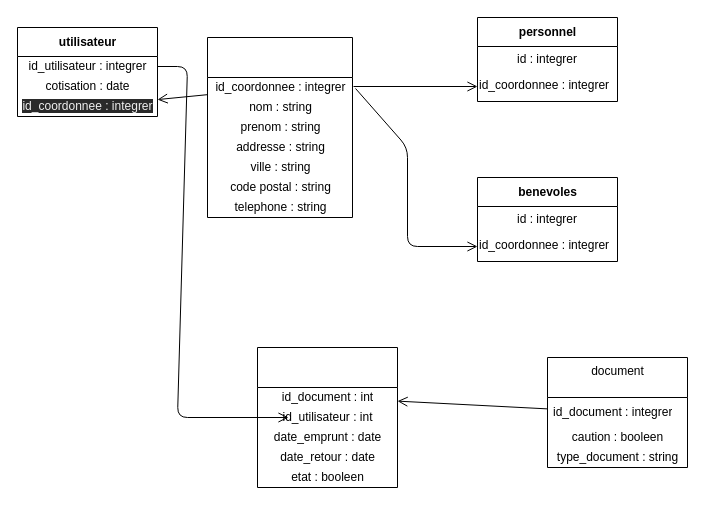
The diagram is 705 pixels wide and 505 high, and some of its shapes have lost their labels. The box of each missing label's shape, as (x1, y1, x2, y2) in pixels:
coordonnees: (206, 36, 352, 218)
emprunter: (256, 346, 398, 488)
